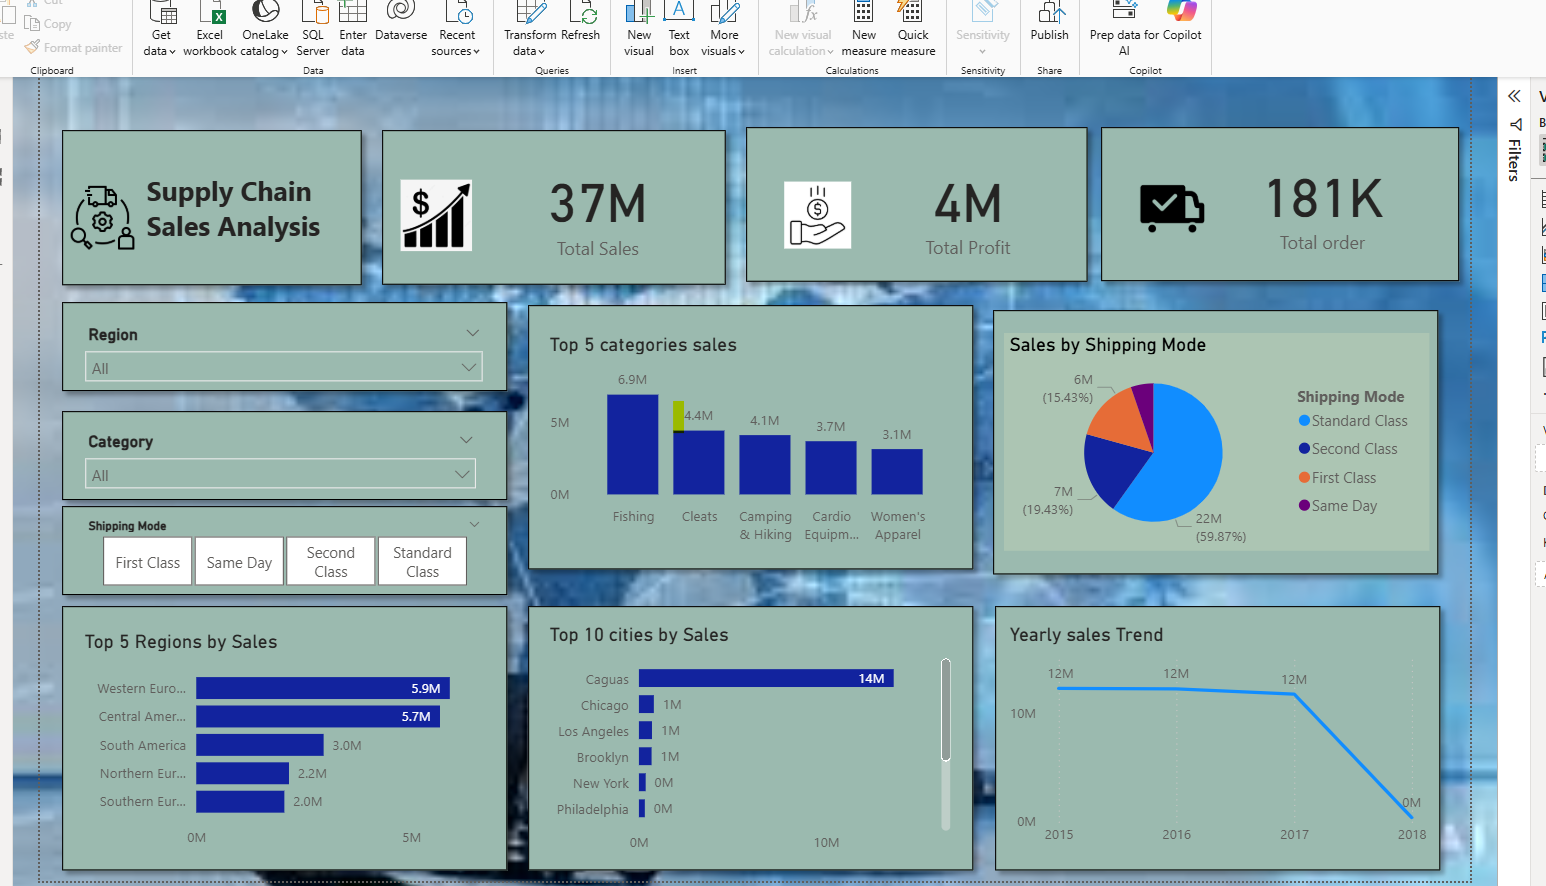

This screenshot's page, from the dashboard's own definition file:
{"tool":"powerbi","page":{"name":"sales & Logistics analysis","canvas":[1280,720],"ordinal":0},"visuals":[{"type":"shape","box":[10.9,38.5,286.4,157],"z":0},{"type":"shape","box":[297.6,38.9,325.8,156.6],"z":1000},{"type":"image","box":[318.1,77.8,73.9,92.4],"z":2000},{"type":"shape","box":[623.5,36,323.9,156.6],"z":3000},{"type":"card","fields":{"Values":["Supply chain data.Total Sales"]},"box":[400.7,63.2,198.4,108.9],"z":4000},{"type":"card","fields":{"Values":["Supply chain data.Total Profit"]},"box":[746,70,170.2,95.3],"z":5000},{"type":"image","box":[647.9,88.9,97.8,70.1],"z":6000},{"type":"shape","box":[941.2,35.6,338.8,156],"z":7000},{"type":"card","fields":{"Values":["Supply chain data.Total order"]},"box":[1052.8,55.3,190.6,114.6],"z":8000},{"type":"image","box":[964,72.1,100.7,90.9],"z":9000},{"type":"shape","box":[10.9,465.2,416.8,254.8],"z":10000},{"type":"barChart","title":"Top 5 Regions by Sales","fields":{"Category":["Supply chain data.Order Region"],"Y":["Sum(Supply chain data.Sales)"]},"box":[34.9,495.2,371.6,201.5],"z":11000},{"type":"shape","box":[427.7,195.6,416.8,254.8],"z":12000},{"type":"columnChart","title":"Top 5 Categories by Sales","fields":{"Category":["Supply chain data.Category Name"],"Y":["Sum(Supply chain data.Sales)"]},"box":[451.4,229.1,369.4,195.6],"z":13000},{"type":"shape","box":[844.4,199.5,416.8,254.8],"z":14000},{"type":"shape","box":[427.7,465.2,416.8,254.8],"z":15000},{"type":"clusteredBarChart","title":"Top 10 cities by Sales","fields":{"Category":["Supply chain data.Customer City"],"Y":["Sum(Supply chain data.Sales)"]},"box":[451.3,489,369,214.9],"z":16000},{"type":"shape","box":[846.4,465.2,416.8,254.8],"z":17000},{"type":"lineChart","title":"Yearly Sales Trend","fields":{"Category":["Supply chain data.order date (DateOrders).Variation.Date Hierarchy.Year"],"Y":["Sum(Supply chain data.Sales)"]},"box":[863.2,488.9,383.2,207.4],"z":18000},{"type":"shape","box":[10.9,192.6,416.8,97.8],"z":19000},{"type":"shape","box":[10.9,290.4,416.8,97.8],"z":20000},{"type":"shape","box":[10.9,375.3,416.8,97.8],"z":21000},{"type":"slicer","fields":{"Values":["Supply chain data.Order Region"]},"box":[30.6,217.3,376.3,57.3],"z":22000},{"type":"slicer","fields":{"Values":["Supply chain data.Category Name"]},"box":[30.6,313.1,370.4,58.3],"z":23000},{"type":"slicer","fields":{"Values":["Supply chain data.Shipping Mode"]},"box":[30.6,390.1,376.3,66.2],"z":24000},{"type":"textbox","box":[90.9,80,180.7,87.9],"z":25000},{"type":"image","box":[21.7,90.9,69.1,70.1],"z":26000},{"type":"pieChart","title":" Sales by Shipping Mode","fields":{"Category":["Supply chain data.Shipping Mode"],"Y":["Sum(Supply chain data.Sales)"]},"box":[863.3,229.3,380.6,195.2],"z":27000},{"type":"textbox","box":[916.1,689.6,301.8,30.4],"z":28000}]}

Visuals, with their boxes on the page's 1280x720 design canvas (x1, y1, x2, y2). These are canvas units, not pixel positions in the 1546x886 screenshot, which may show the page scaled, cropped or inside an application window:
shape: Rect(11, 38, 297, 196)
shape: Rect(298, 39, 623, 196)
image: Rect(318, 78, 392, 170)
shape: Rect(624, 36, 947, 193)
card - Supply chain data.Total Sales: Rect(401, 63, 599, 172)
card - Supply chain data.Total Profit: Rect(746, 70, 916, 165)
image: Rect(648, 89, 746, 159)
shape: Rect(941, 36, 1280, 192)
card - Supply chain data.Total order: Rect(1053, 55, 1243, 170)
image: Rect(964, 72, 1065, 163)
shape: Rect(11, 465, 428, 720)
"Top 5 Regions by Sales" barChart: Rect(35, 495, 406, 697)
shape: Rect(428, 196, 844, 450)
"Top 5 Categories by Sales" columnChart: Rect(451, 229, 821, 425)
shape: Rect(844, 200, 1261, 454)
shape: Rect(428, 465, 844, 720)
"Top 10 cities by Sales" clusteredBarChart: Rect(451, 489, 820, 704)
shape: Rect(846, 465, 1263, 720)
"Yearly Sales Trend" lineChart: Rect(863, 489, 1246, 696)
shape: Rect(11, 193, 428, 290)
shape: Rect(11, 290, 428, 388)
shape: Rect(11, 375, 428, 473)
slicer - Supply chain data.Order Region: Rect(31, 217, 407, 275)
slicer - Supply chain data.Category Name: Rect(31, 313, 401, 371)
slicer - Supply chain data.Shipping Mode: Rect(31, 390, 407, 456)
textbox: Rect(91, 80, 272, 168)
image: Rect(22, 91, 91, 161)
" Sales by Shipping Mode" pieChart: Rect(863, 229, 1244, 424)
textbox: Rect(916, 690, 1218, 720)
